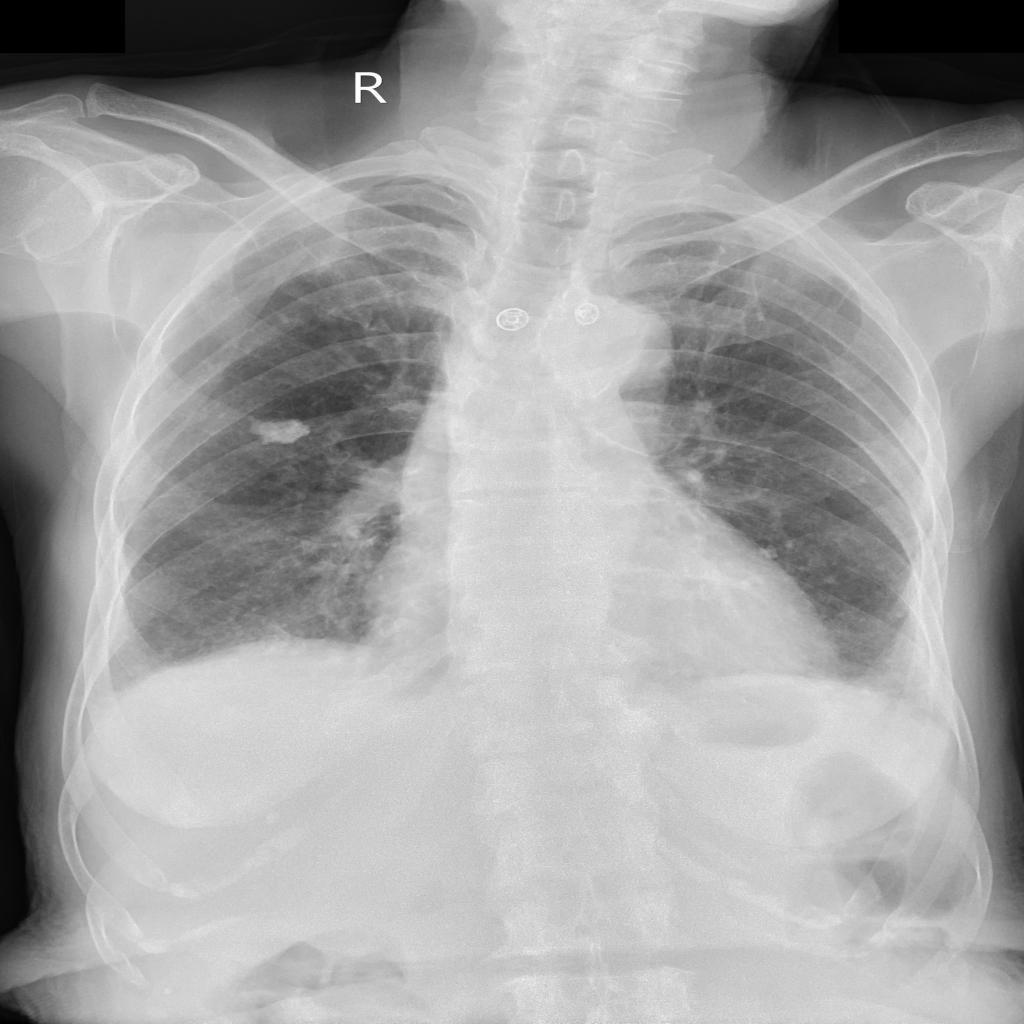Nodule: (248, 419, 311, 445)
